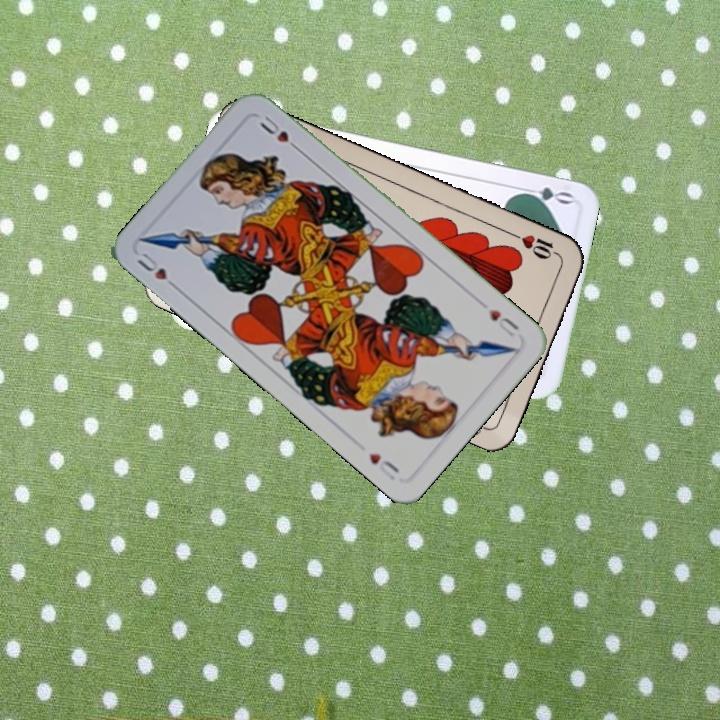GO: (515, 183, 575, 208)
H10: (508, 229, 564, 262)
HU: (132, 248, 183, 294), (485, 305, 522, 340)
